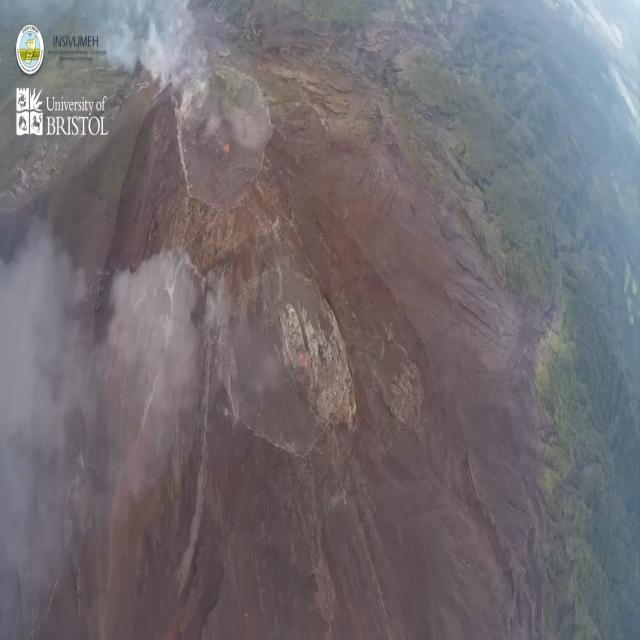Summit: (154, 48, 284, 226)
